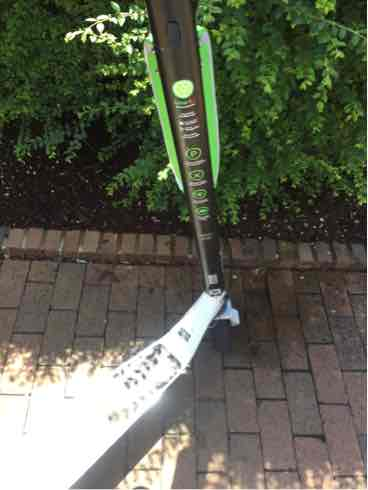scooter: (1, 15, 280, 490)
